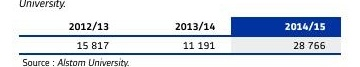table: (0, 0, 360, 67)
